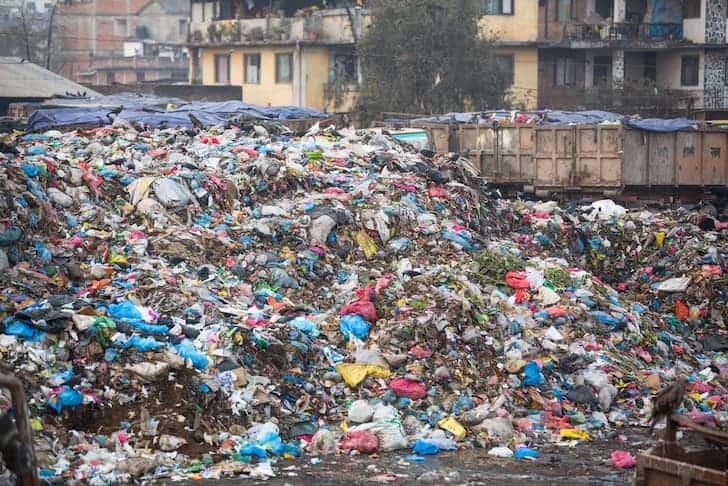garbage: (0, 100, 728, 486)
